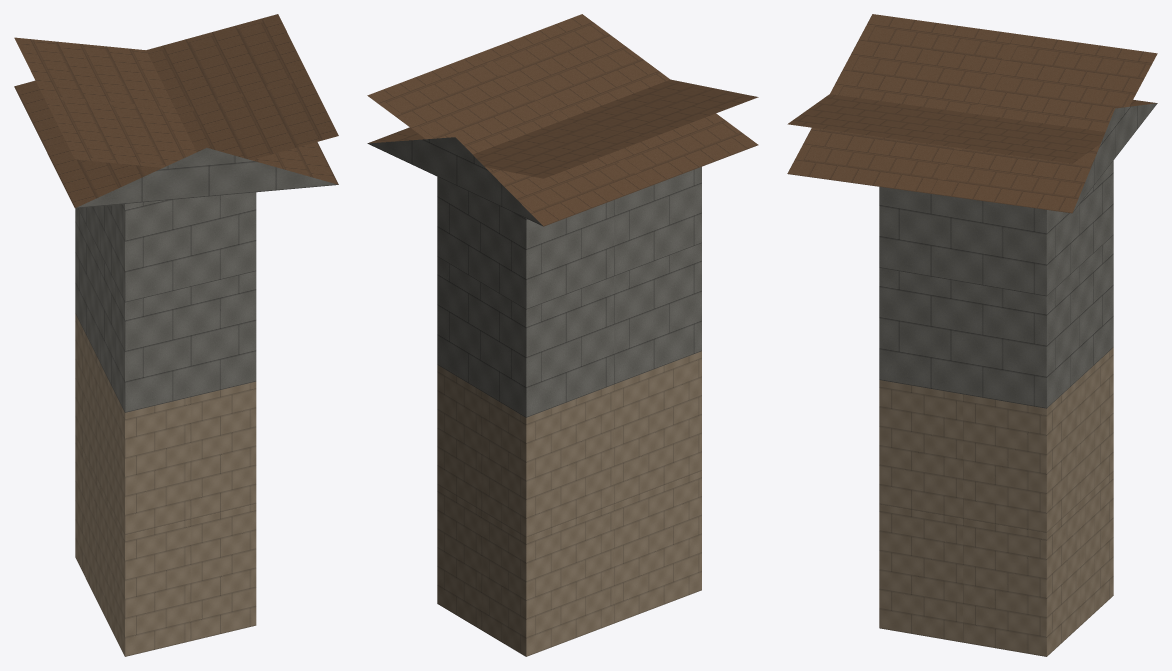
Rendered from bld_c43_-40_418.gltf.
The picture shows the model from 3 angles, left to right: view 1: azimuth 30°, elevation 25°; view 2: azimuth 150°, elevation 25°; view 3: azimuth 270°, elevation 25°; orthographic projection. The views are drawn at different scales.
Visible parts, largest first — view 1: bld_c43_-40_418; view 2: bld_c43_-40_418; view 3: bld_c43_-40_418.
Boxes of the visible parts, <box> form: bld_c43_-40_418: <box>14,14,338,656</box>; bld_c43_-40_418: <box>367,14,758,656</box>; bld_c43_-40_418: <box>787,14,1157,656</box>.
Bounding box in the file's own units: 6.45 × 10.5 × 6.75.
4 materials, 4 textured.
